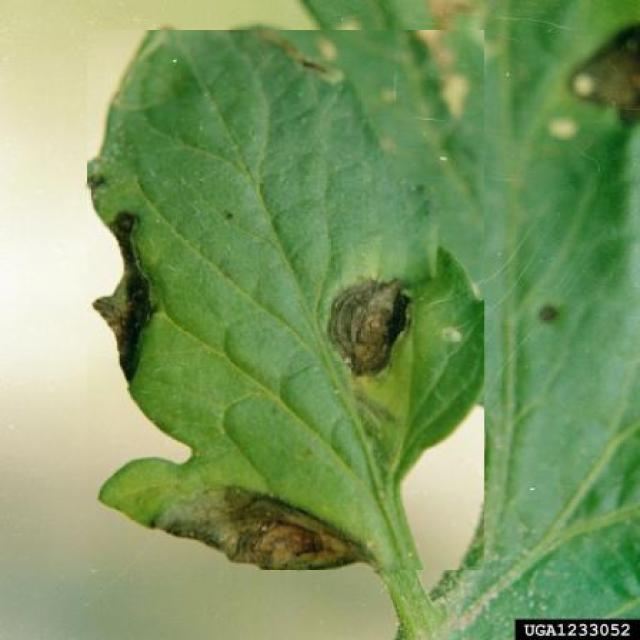Early Blight: (87, 30, 484, 570)
